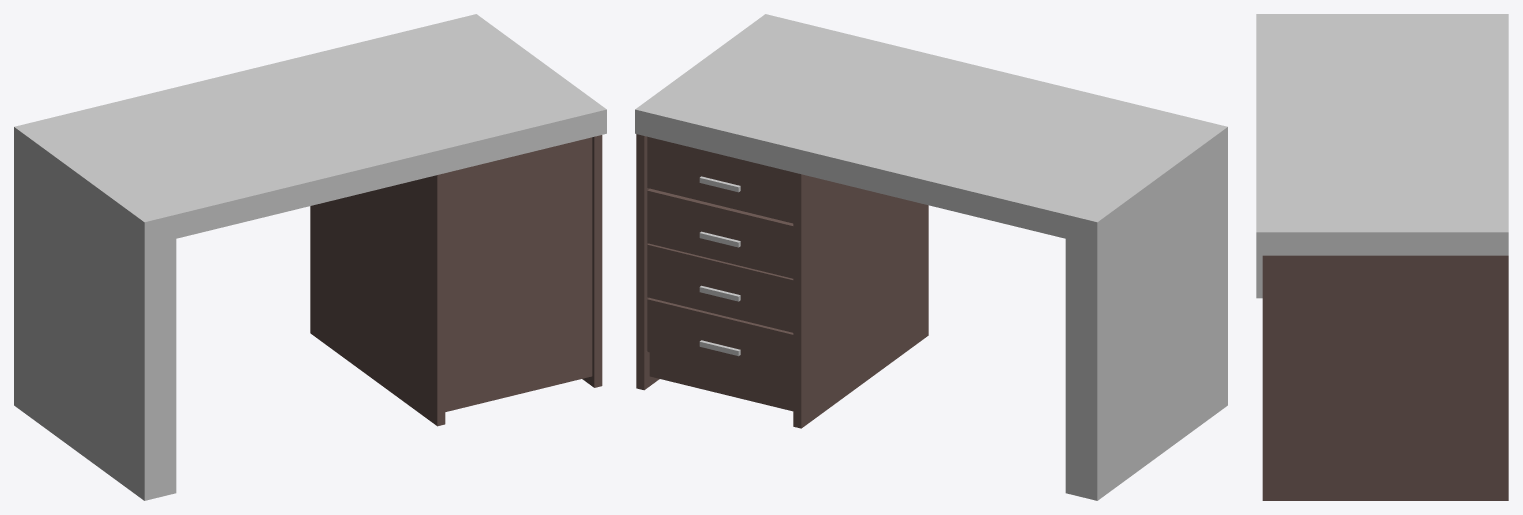
Rendered from furniture_desk_office002.glb.
3 renders of one model, left to right at view 1: azimuth 30°, elevation 25°; view 2: azimuth 150°, elevation 25°; view 3: azimuth 270°, elevation 25°, orthographic. The views are drawn at different scales.
Visible parts, largest first — view 1: furniture_desk_office002; view 2: furniture_desk_office002; view 3: furniture_desk_office002.
Part boxes in pixels (x1,y1,x2,y2): furniture_desk_office002: (14,14,606,500); furniture_desk_office002: (635,14,1227,500); furniture_desk_office002: (1256,14,1508,500).
Size of the model in its own units: 1.07 by 0.6188 by 0.5251.
